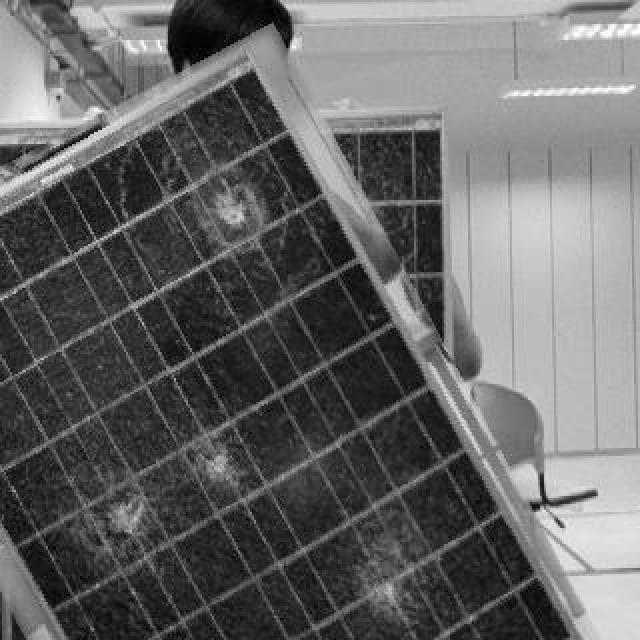Physical-damage: (95, 413, 275, 595), (140, 133, 322, 303), (323, 456, 479, 640)
